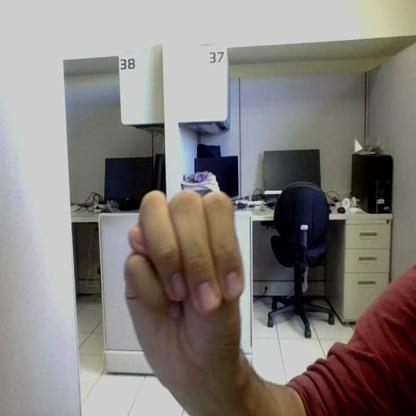M: (126, 191, 243, 378)
